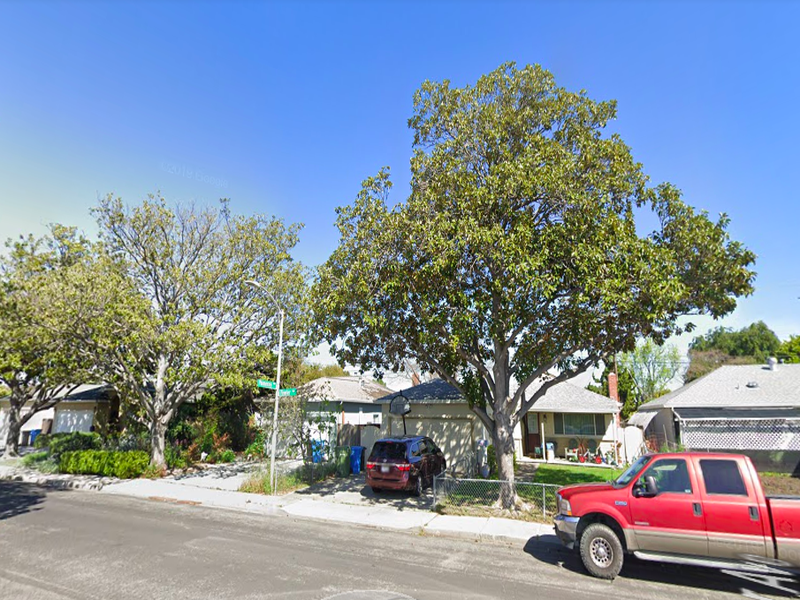tree: (306, 59, 758, 513), (68, 192, 302, 482), (1, 223, 142, 461)
